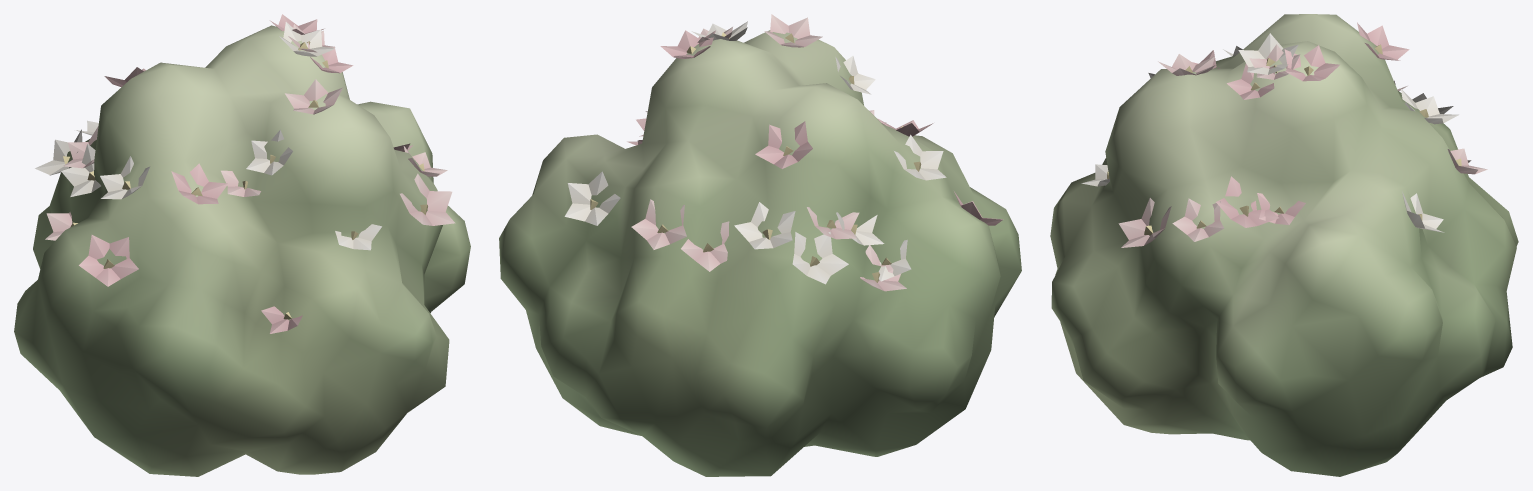
Rendered from bush-b.glb.
The picture shows the model from 3 angles, left to right: view 1: azimuth 30°, elevation 25°; view 2: azimuth 150°, elevation 25°; view 3: azimuth 270°, elevation 25°; orthographic projection. The views are drawn at different scales.
Visible parts, largest first — view 1: bush-b; view 2: bush-b; view 3: bush-b.
Boxes of the visible parts, x1,y1,x2,y2 form: bush-b: (14,14,470,476); bush-b: (499,14,1021,476); bush-b: (1050,14,1518,476).
Bounding box in the file's own units: 0.8498 × 0.744 × 0.7951.
